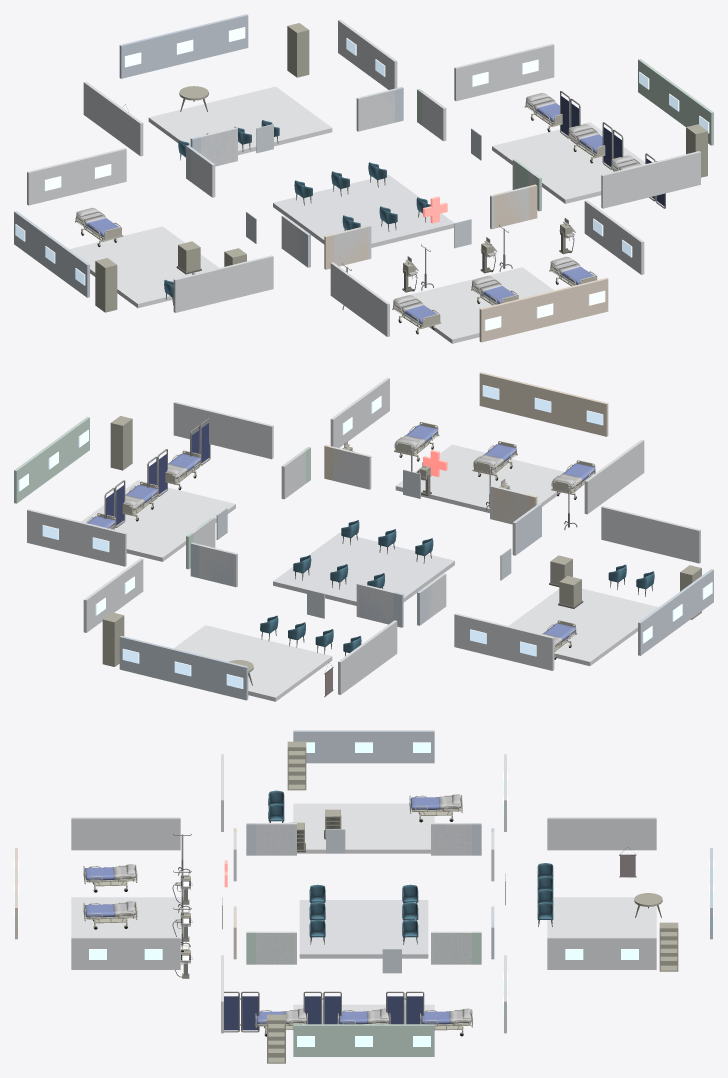
Rendered from er_ward.glb.
The picture shows the model from 3 angles, top to bottom: view 1: azimuth 30°, elevation 25°; view 2: azimuth 150°, elevation 25°; view 3: azimuth 270°, elevation 25°; orthographic projection. The views are drawn at different scales.
Parts seen in each view (by area): view 1: zone_hall_floor, zone_triage_floor, zone_discharge_floor, zone_waitdoctor_floor, zone_triage_wall_back, zone_treatment_wall_back, zone_treatment_floor, zone_discharge_wall_r, zone_waitdoctor_wall_r, zone_waitdoctor_wall_l, zone_discharge_wall_l, zone_discharge_wall_back (+28 smaller); view 2: zone_hall_floor, zone_discharge_floor, zone_triage_floor, zone_treatment_floor, zone_waitdoctor_floor, zone_treatment_wall_back, zone_triage_wall_back, zone_discharge_wall_r, zone_waitdoctor_wall_r, zone_discharge_wall_l, zone_waitdoctor_wall_l, zone_discharge_wall_back (+29 smaller); view 3: zone_hall_floor, zone_discharge_floor, zone_discharge_wall_back, zone_waitdoctor_wall_back, zone_triage_floor, zone_treatment_wall_l, zone_triage_wall_l, zone_treatment_floor, zone_treatment_wall_r, zone_triage_wall_r, hall_e_1, hall_e_0 (+19 smaller).
Part boxes in pixels (x1,y1,x2,y2): zone_hall_floor: (273,174,453,247); zone_triage_floor: (148,86,332,155); zone_discharge_floor: (69,226,218,307); zone_waitdoctor_floor: (492,122,645,203); zone_triage_wall_back: (119,14,248,78); zone_treatment_wall_back: (479,277,608,342); zone_treatment_floor: (395,267,553,343); zone_discharge_wall_r: (173,255,273,312); zone_waitdoctor_wall_r: (601,151,700,208); zone_waitdoctor_wall_l: (454,43,554,101); zone_discharge_wall_l: (27,148,126,205); zone_discharge_wall_back: (14,211,89,297); zone_hall_floor: (273,532,454,605); zone_discharge_floor: (509,588,658,665); zone_triage_floor: (174,625,332,701); zone_treatment_floor: (395,444,564,513); zone_waitdoctor_floor: (81,480,235,561); zone_treatment_wall_back: (479,372,608,436); zone_triage_wall_back: (119,635,248,700); zone_discharge_wall_r: (601,506,700,563); zone_waitdoctor_wall_r: (173,401,273,459); zone_discharge_wall_l: (454,613,554,670); zone_waitdoctor_wall_l: (27,509,126,566); zone_discharge_wall_back: (638,569,713,655); zone_hall_floor: (299,900,428,958); zone_discharge_floor: (293,803,434,853); zone_discharge_wall_back: (293,730,434,763); zone_waitdoctor_wall_back: (293,1024,434,1056); zone_triage_floor: (547,897,656,936); zone_treatment_wall_l: (71,817,180,850); zone_triage_wall_l: (547,817,656,850); zone_treatment_floor: (71,897,180,936); zone_treatment_wall_r: (71,937,180,969); zone_triage_wall_r: (547,937,656,969); hall_e_1: (431,931,471,964); hall_e_0: (256,931,296,964).
Bounding box in the file's own units: 27.19 × 2.96 × 27.19.
23 materials, 8 textured.
